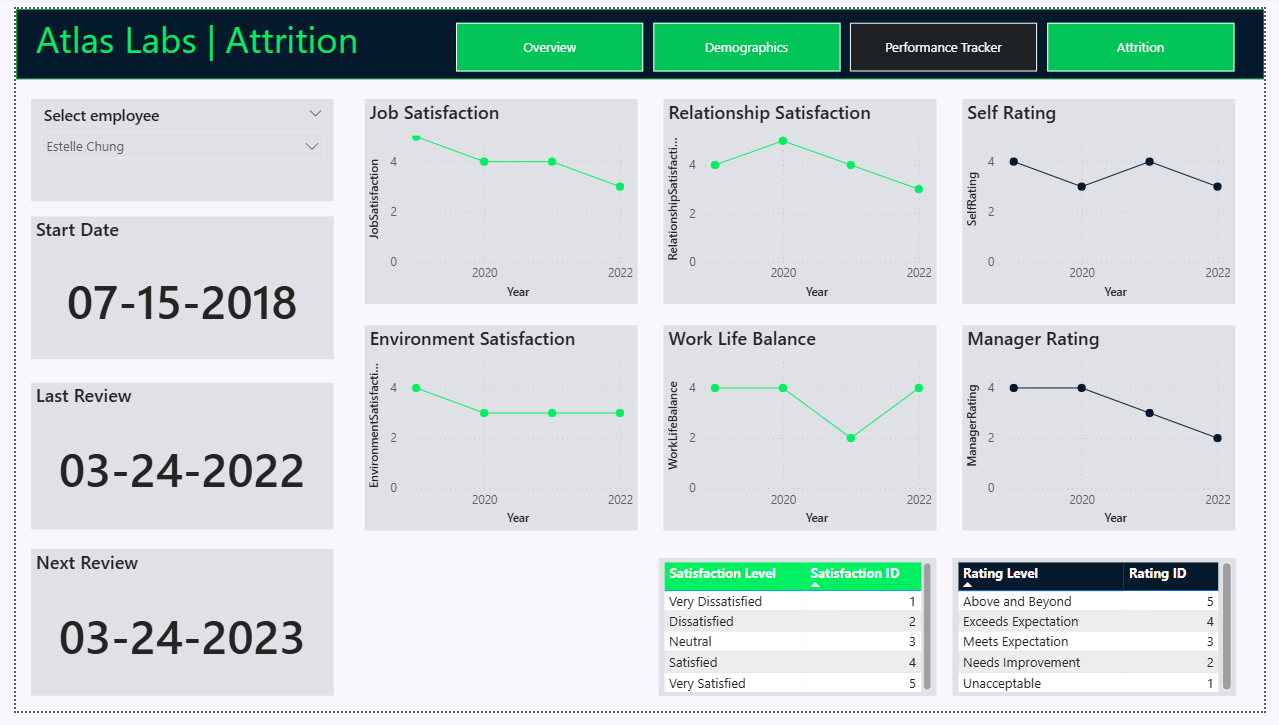

Layout of this report page (visuals, bound fields, positions):
{"tool":"powerbi","page":{"name":"Performance Tracker","canvas":[1280,720],"ordinal":2},"visuals":[{"type":"slicer","fields":{"Values":["DimEmployee.FullName"]},"box":[15.9,92.9,310.6,105.2],"z":0},{"type":"card","title":"Start Date","fields":{"Values":["Min(DimEmployee.HireDate)"]},"box":[15.9,212.8,310.6,146.7],"z":1000},{"type":"card","title":"Last Review","fields":{"Values":["_Measures.LastReviewDate"]},"box":[15.9,384,310.6,150.4],"z":2000},{"type":"card","title":"Next Review","fields":{"Values":["_Measures.NextReviewDate"]},"box":[15.9,553.9,310.6,150.4],"z":3000},{"type":"lineChart","title":"Job Satisfaction","fields":{"Y":["_Measures.JobSatisfaction"],"Category":["DimDate.Year"]},"box":[357.1,92.9,280,210],"z":4000},{"type":"lineChart","title":"Relationship Satisfaction","fields":{"Y":["_Measures.RelationshipSatisfaction"],"Category":["DimDate.Year"]},"box":[664,92.9,280,210],"z":5000},{"type":"lineChart","title":"Self Rating","fields":{"Y":["_Measures.SelfRating"],"Category":["DimDate.Year"]},"box":[970.9,92.9,280,210],"z":6000},{"type":"lineChart","title":"Work Life Balance","fields":{"Y":["_Measures.WorkLifeBalance"],"Category":["DimDate.Year"]},"box":[664,324.1,280,210.3],"z":7000},{"type":"lineChart","title":"Manager Rating","fields":{"Y":["_Measures.ManagerRating"],"Category":["DimDate.Year"]},"box":[970.9,324.1,280,210.3],"z":8000},{"type":"lineChart","title":"Environment Satisfaction","fields":{"Y":["_Measures.EnvironmentSatisfaction"],"Category":["DimDate.Year"]},"box":[357.1,324.1,280,210.3],"z":9000},{"type":"tableEx","fields":{"Values":["DimRatingLevel.RatingLevel","DimRatingLevel.RatingID"]},"box":[959.9,562.5,291,141.8],"z":10000},{"type":"tableEx","fields":{"Values":["DimSatisfiedLevel.SatisfactionLevel","DimSatisfiedLevel.SatisfactionID"]},"box":[659.1,562.5,284.9,141.8],"z":11000},{"type":"shape","box":[0,0,1280.3,72.1],"z":12000},{"type":"textbox","box":[15.9,0,447.6,64.8],"z":13000},{"type":"pageNavigator","box":[451.2,14.7,799.7,50.1],"z":14000}]}

Visuals, with their boxes in screenshot pixels (x1, y1, x2, y2), scaled from the page's 1280x720 canvas onto the 1279x725 screenshot:
slicer - DimEmployee.FullName: <region>16, 94, 326, 199</region>
"Start Date" card: <region>16, 214, 326, 362</region>
"Last Review" card: <region>16, 387, 326, 538</region>
"Next Review" card: <region>16, 558, 326, 709</region>
"Job Satisfaction" lineChart: <region>357, 94, 637, 305</region>
"Relationship Satisfaction" lineChart: <region>663, 94, 943, 305</region>
"Self Rating" lineChart: <region>970, 94, 1250, 305</region>
"Work Life Balance" lineChart: <region>663, 326, 943, 538</region>
"Manager Rating" lineChart: <region>970, 326, 1250, 538</region>
"Environment Satisfaction" lineChart: <region>357, 326, 637, 538</region>
tableEx - DimRatingLevel.RatingLevel x DimRatingLevel.RatingID: <region>959, 566, 1250, 709</region>
tableEx - DimSatisfiedLevel.SatisfactionLevel x DimSatisfiedLevel.SatisfactionID: <region>659, 566, 943, 709</region>
shape: <region>0, 0, 1278, 73</region>
textbox: <region>16, 0, 463, 65</region>
pageNavigator: <region>451, 15, 1250, 65</region>
